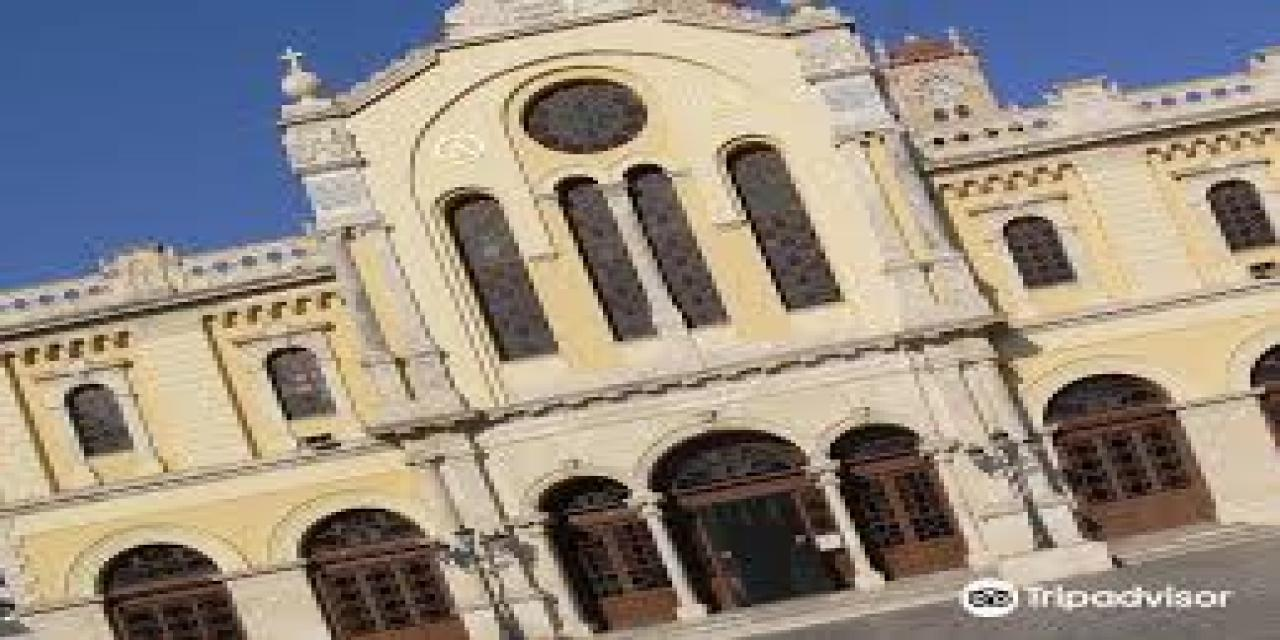Agios Minas: (3, 5, 1280, 640)
